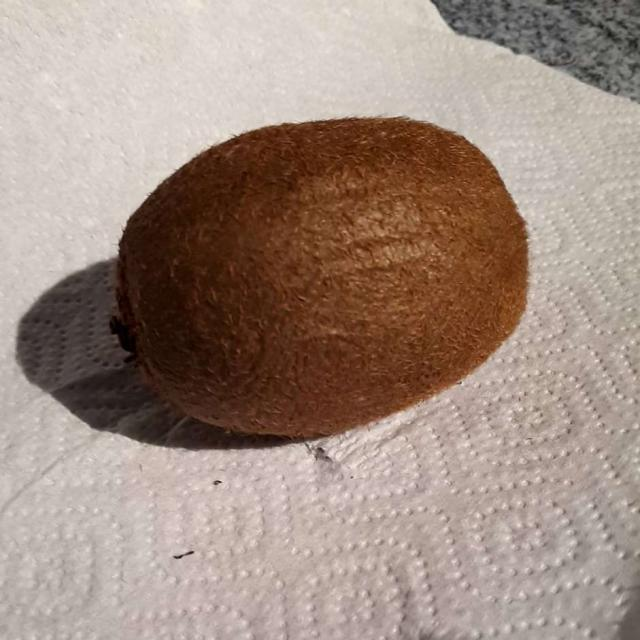kiwi: (117, 123, 521, 439)
